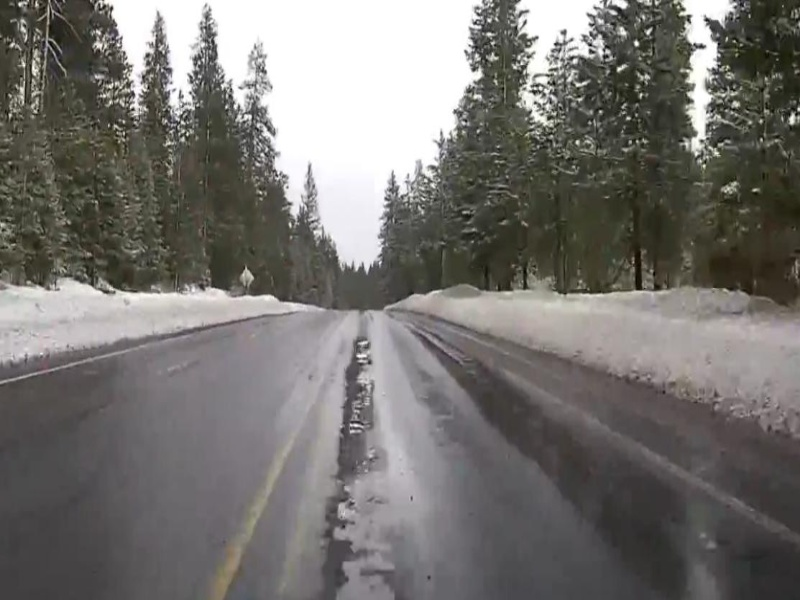pothole: (342, 383, 376, 440), (350, 337, 371, 350), (349, 352, 370, 363)
